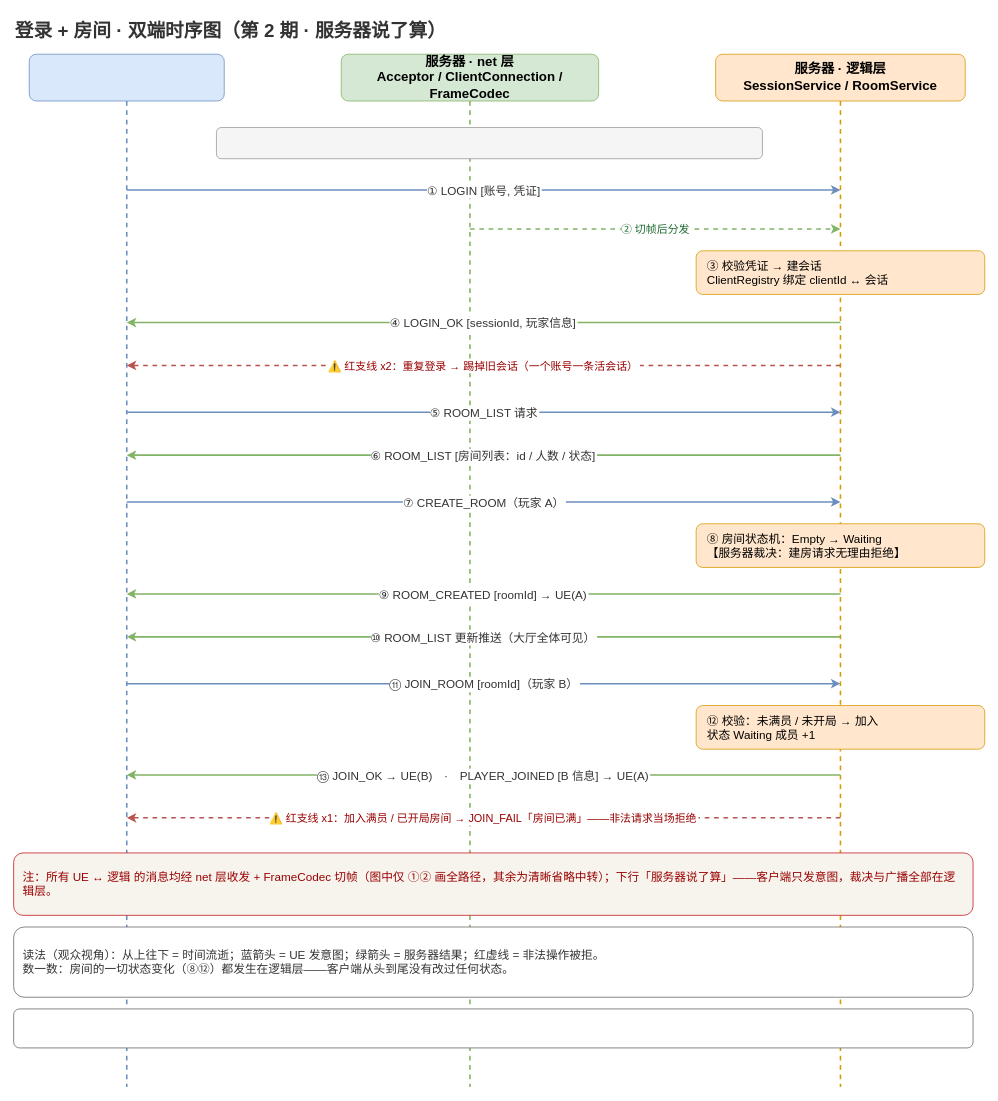
This 998x1101 diagram has some shape labels left out. Here are the shapes that lost their labels. From the top down, the box of each, then its label:
(28, 53, 224, 101): UE 客户端 （A = 建房者 B = 加入者）
(216, 127, 762, 159): 前置（第 1 期已完成）：TCP 已连接 · WELCOME 已发 · 心跳保活中
(13, 1008, 973, 1048): 色标：绿箭头 = 服务器→UE 蓝箭头 = UE→服务器 红虚线 = 非法/拒绝 绿框角色 = net 层 橙框角色与卡片 = 逻辑层
